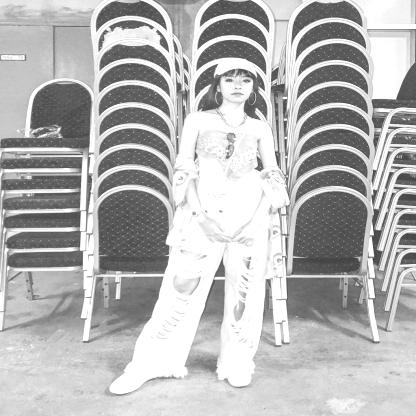jacket: (191, 127, 266, 182)
jean: (109, 56, 290, 385)
